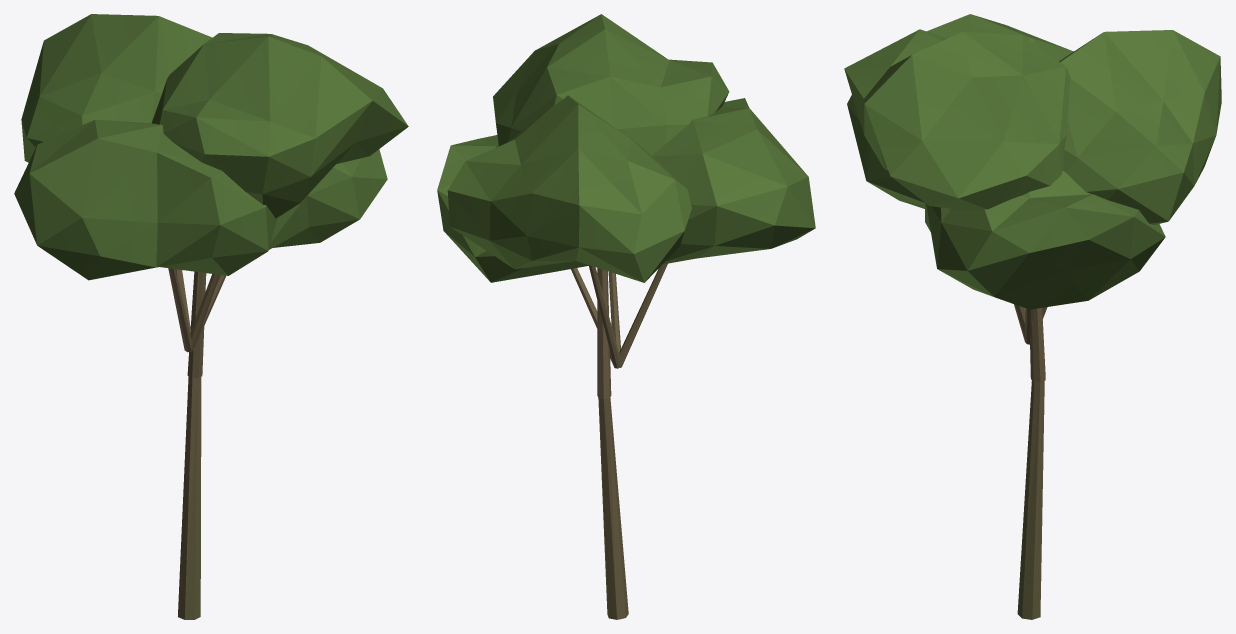
File: jungle-sapling.glb
3 renders of one model, left to right at view 1: azimuth 30°, elevation 25°; view 2: azimuth 150°, elevation 25°; view 3: azimuth 270°, elevation 25°, orthographic. The views are drawn at different scales.
Parts seen in each view (by area): view 1: Молодое тропическое дерево; view 2: Молодое тропическое дерево; view 3: Молодое тропическое дерево.
Boxes of the visible parts, bbox=[...] form: Молодое тропическое дерево: bbox=[14, 14, 408, 619]; Молодое тропическое дерево: bbox=[437, 14, 815, 619]; Молодое тропическое дерево: bbox=[844, 14, 1221, 619].
Bounding box in the file's own units: 7.16 × 11.09 × 6.26.
